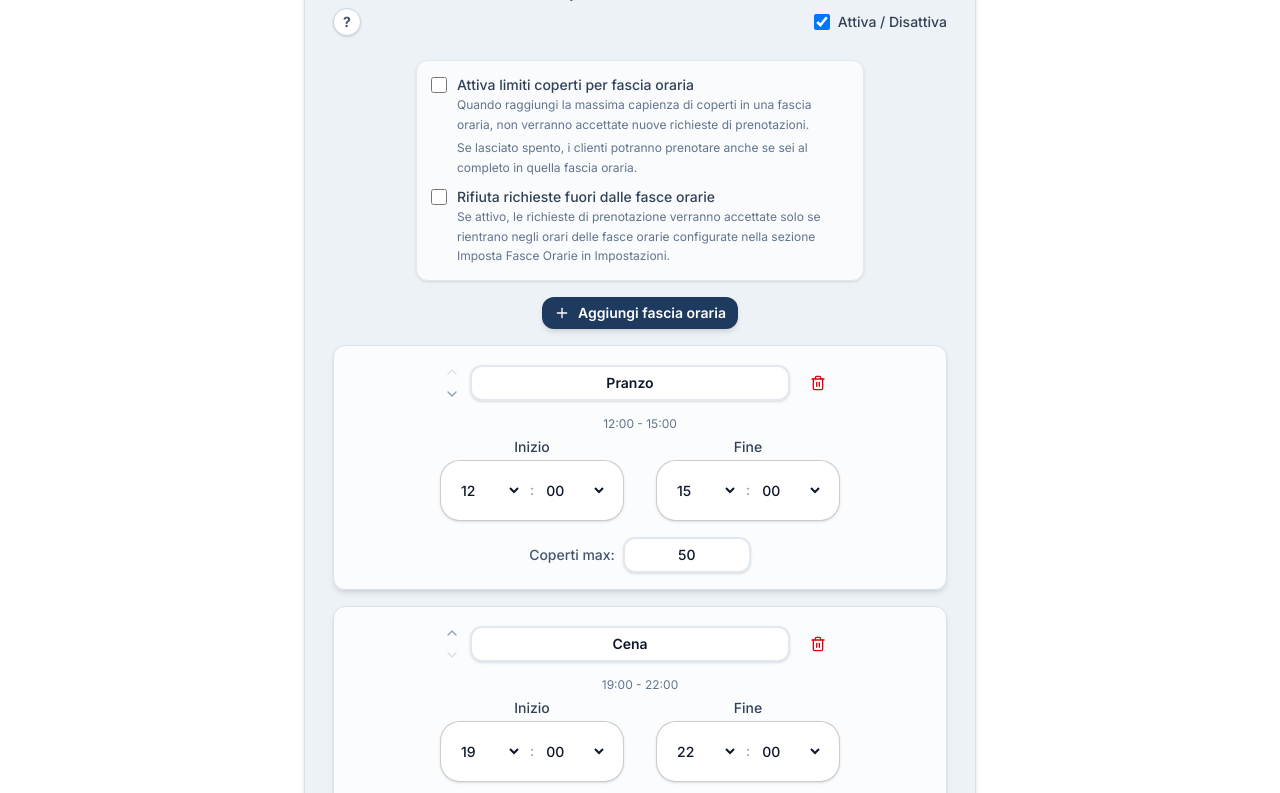
Test: settings-time-slots M4 — riordino manuale fasce (FIX 3, 16-06-26) › freccia giù su Pranzo scambia l’ordine in UI e disabilita ai confini
(page scrolled)
Expected: the field named "nome fascia 1" holds "Pranzo", 470,365 -> 790,401
Expected: the field named "nome fascia 2" holds "Cena", 470,626 -> 790,662
Click the button named "sposta giù fascia pranzo".
click(452, 394)  # box 442,384 -> 462,404
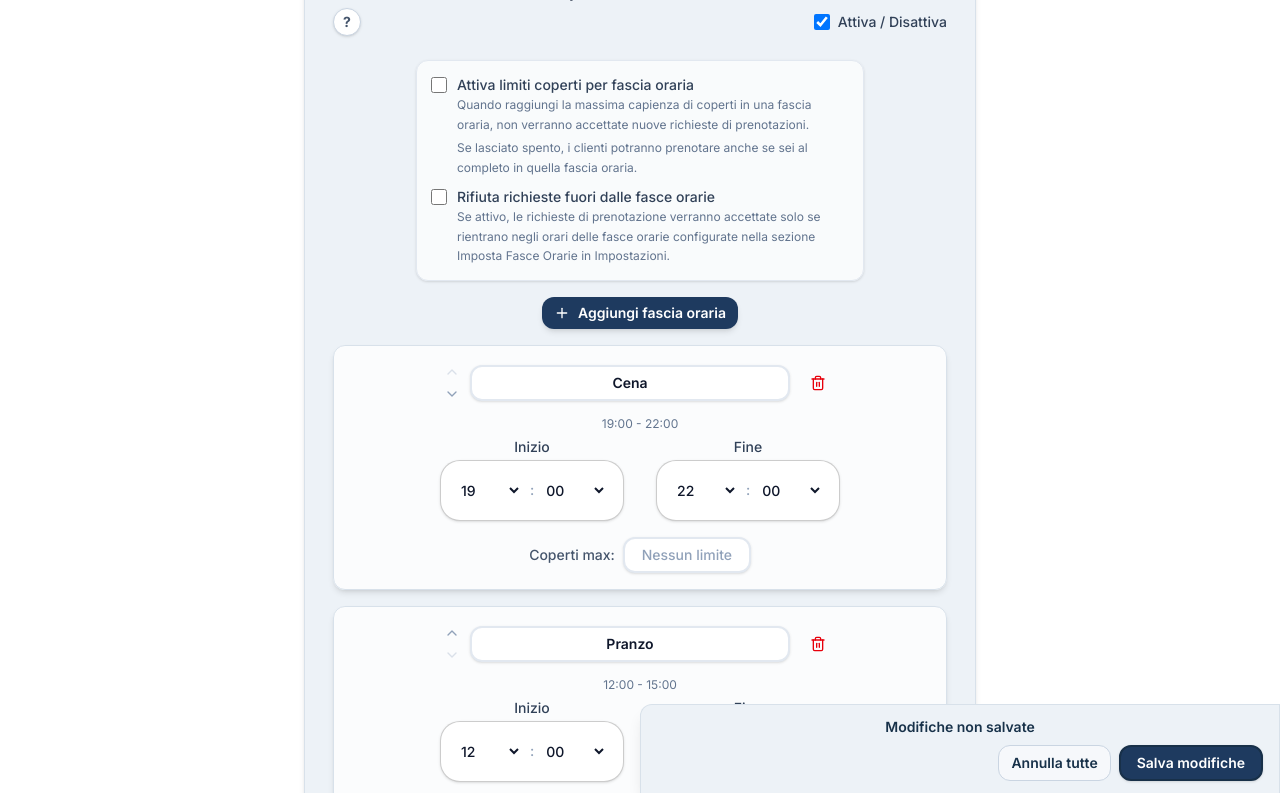
Expected: the field named "nome fascia 1" holds "Cena", 470,365 -> 790,401
Expected: the element "Modifiche non salvate Annulla tutte Salva modifiche" is shown, 640,705 -> 1279,792
